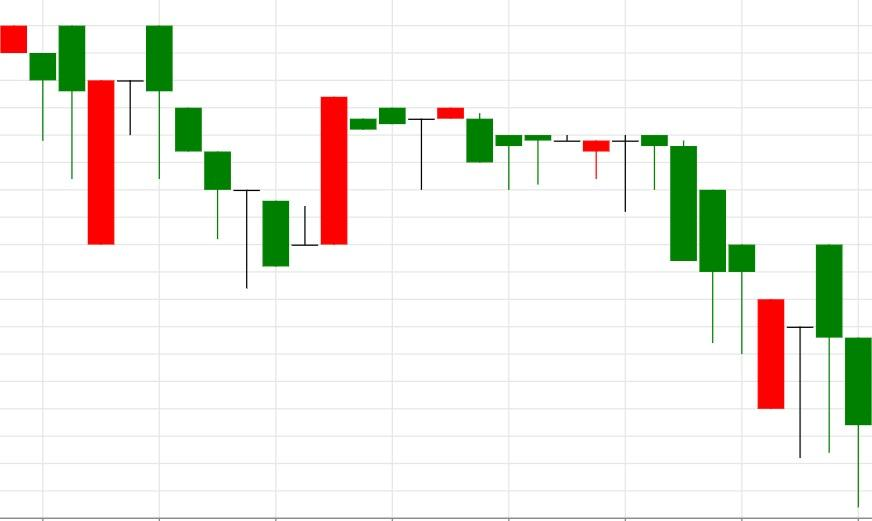three_black_crows_fall: (86, 25, 231, 246)
